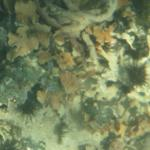alive: (4, 4, 148, 148)
